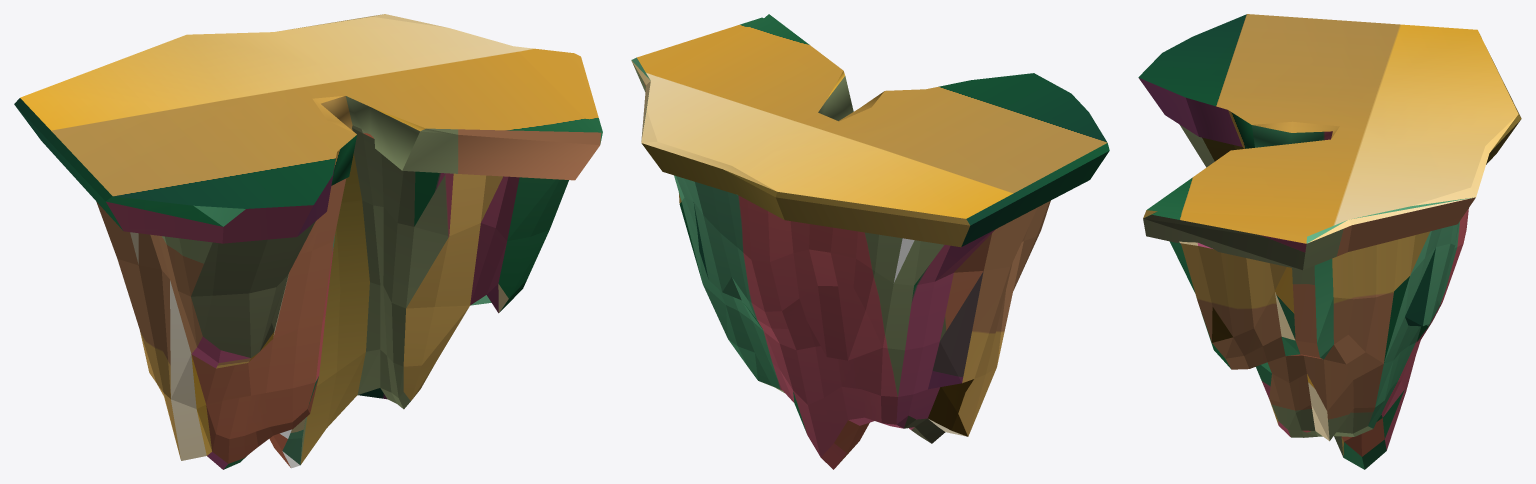
The model's file is platform1.fbx.
The picture shows the model from 3 angles, left to right: view 1: azimuth 30°, elevation 25°; view 2: azimuth 150°, elevation 25°; view 3: azimuth 270°, elevation 25°; orthographic projection. The views are drawn at different scales.
Parts seen in each view (by area): view 1: floe_013, Hill_desert_005_002; view 2: floe_013, Hill_desert_005_002; view 3: floe_013, Hill_desert_005_002.
Part boxes in pixels (x1,y1,x2,y2): floe_013: [14, 14, 602, 243]; Hill_desert_005_002: [96, 125, 568, 469]; floe_013: [631, 14, 1109, 247]; Hill_desert_005_002: [674, 175, 1050, 469]; floe_013: [1138, 14, 1521, 270]; Hill_desert_005_002: [1169, 124, 1468, 469].
Bounding box in the file's own units: 18 × 12.88 × 12.88.
